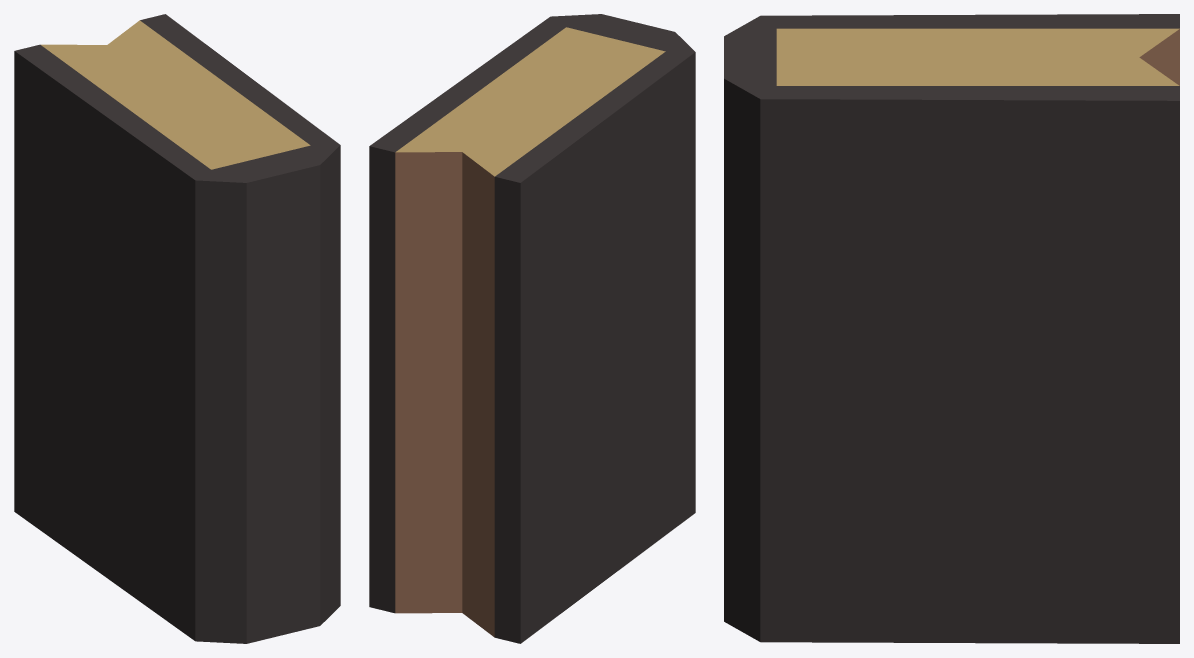
Rendered from TB_Prop_Book_D.FBX.
3 renders of one model, left to right at view 1: azimuth 30°, elevation 25°; view 2: azimuth 150°, elevation 25°; view 3: azimuth 270°, elevation 25°, orthographic. The views are drawn at different scales.
Visible parts, largest first — view 1: TB_Prop_Book_D; view 2: TB_Prop_Book_D; view 3: TB_Prop_Book_D.
Boxes of the visible parts, left/top/right/bottom form: TB_Prop_Book_D: left=14, top=14, right=340, bottom=643; TB_Prop_Book_D: left=369, top=14, right=695, bottom=643; TB_Prop_Book_D: left=724, top=14, right=1179, bottom=643.
Size of the model in its own units: 0.2401 by 0.6998 by 0.5323.
